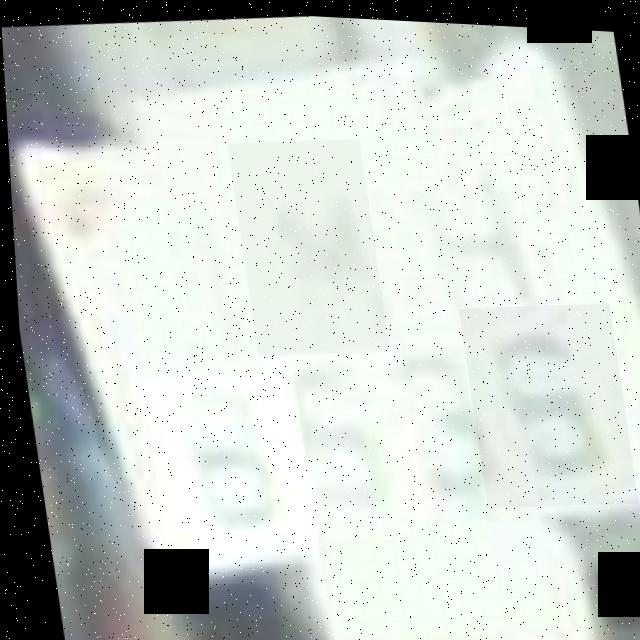5: (244, 336, 421, 540), (357, 312, 522, 517)
6: (122, 345, 313, 561), (454, 290, 633, 509)
9: (137, 365, 315, 572)
N: (225, 129, 386, 359)
P: (389, 102, 550, 339)
